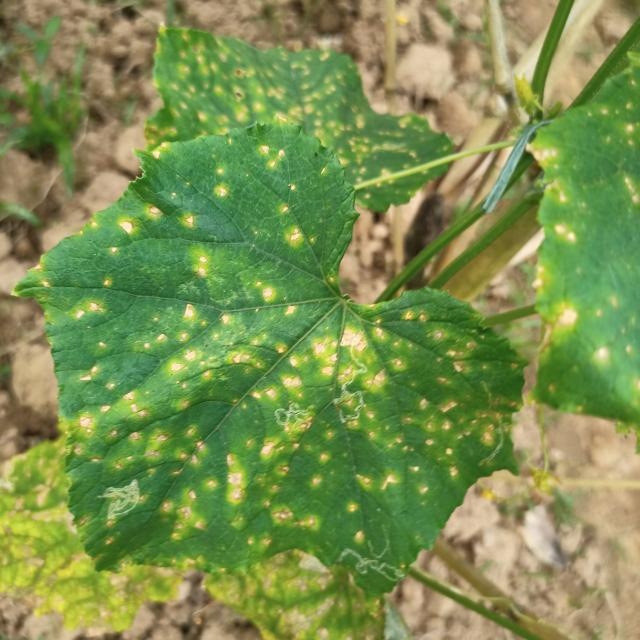disease_cucumber: (50, 299, 520, 565), (254, 279, 299, 317), (279, 182, 304, 249), (146, 205, 200, 227), (104, 220, 136, 254), (259, 143, 285, 171), (212, 165, 230, 203), (192, 251, 212, 281)
